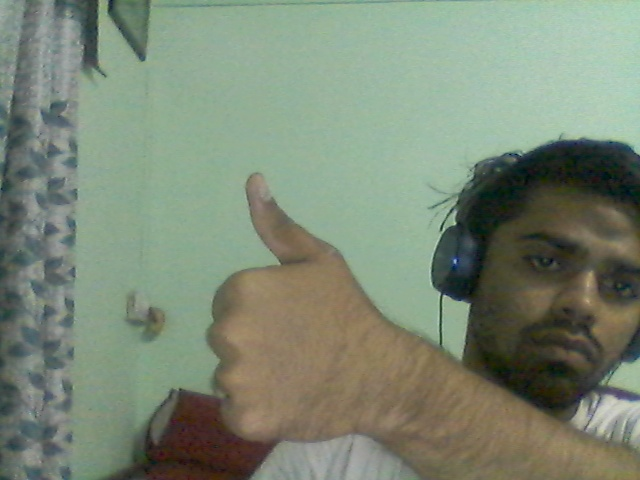Yes: (151, 118, 448, 472)
